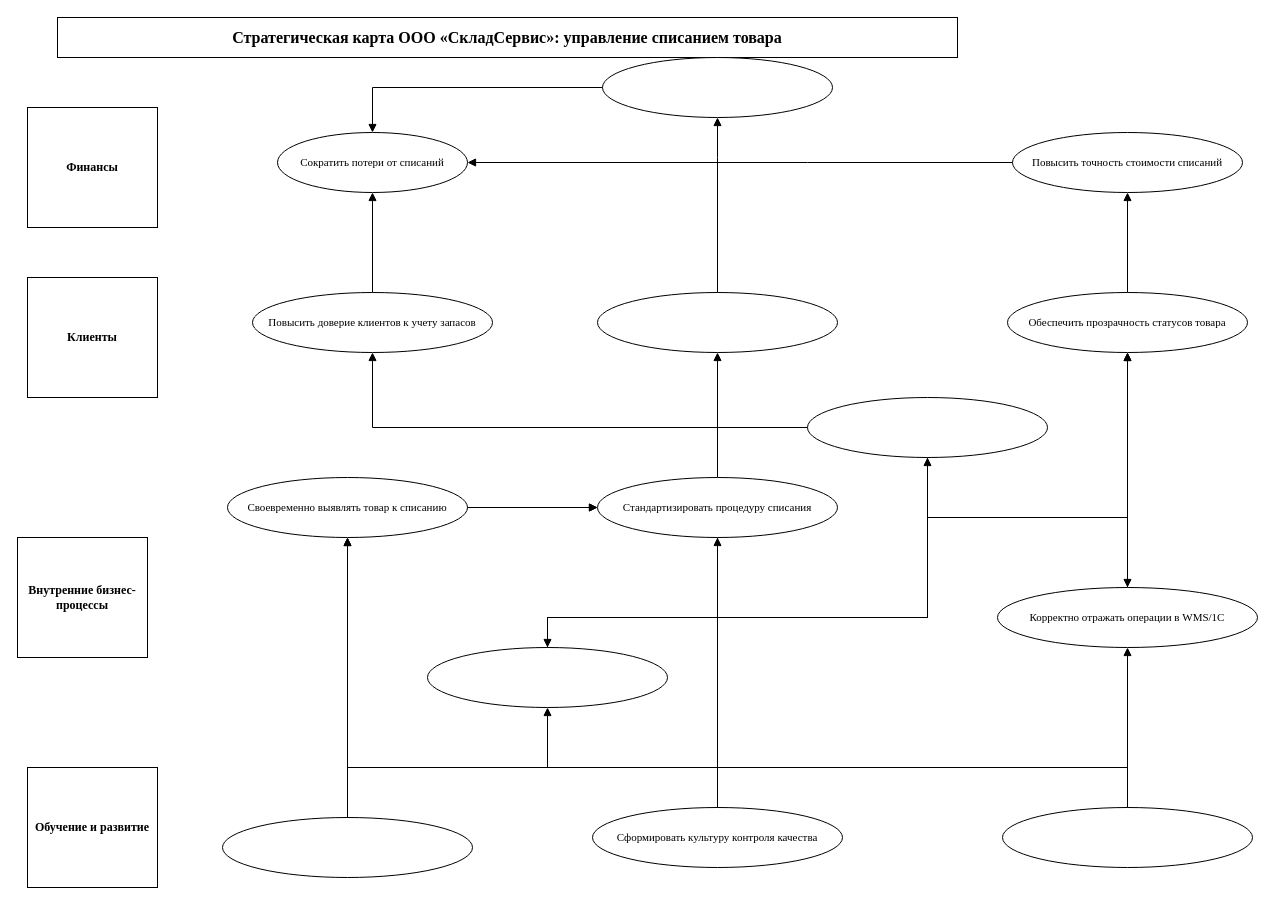
This 1275x905 diagram has some shape labels left out. The centre of each missing label's shape, as x and y in pixels:
Повысить квалификацию сотрудников склада: (347,847)
Повысить точность инвентаризации: (927,427)
Развить навыки работы с WMS/1C и ТСД: (1127,837)
Снизить затраты на хранение проблемного товара: (717,87)
Сократить претензии по качеству хранения: (717,322)
Ускорить оформление актов списания: (547,677)
